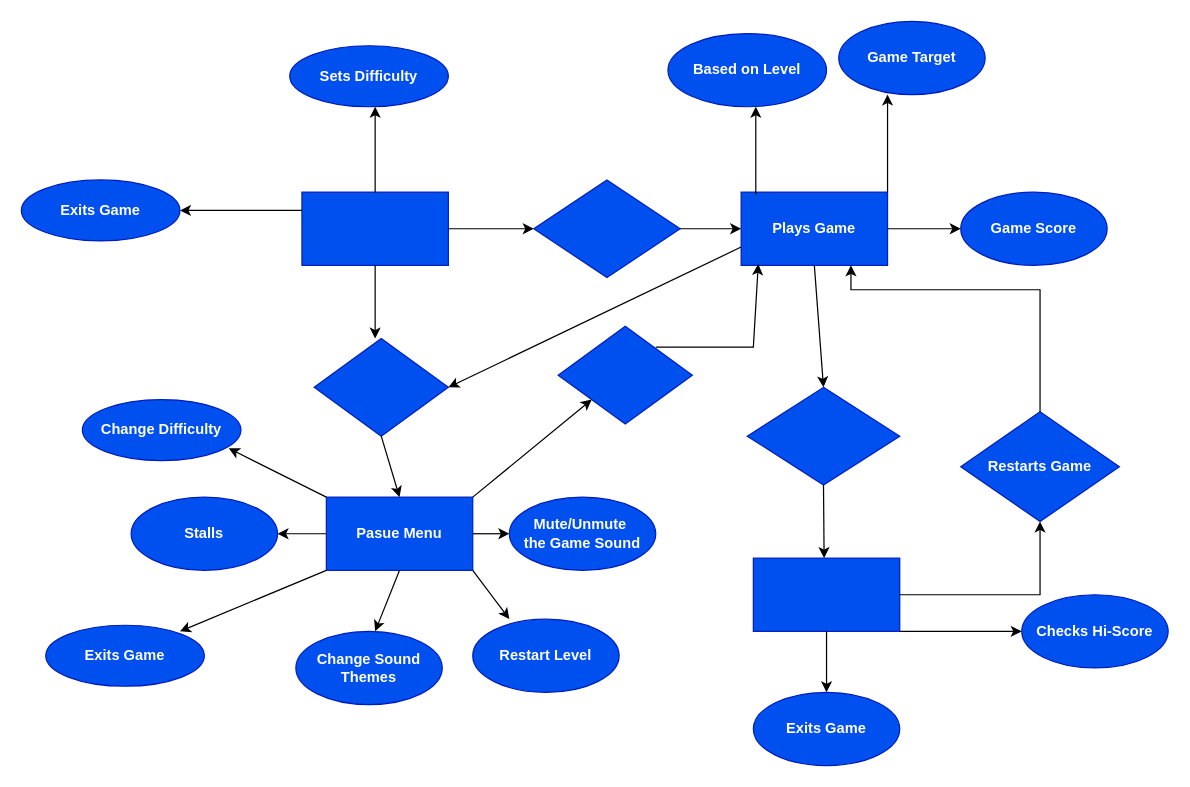
Image size: 1190x787. Some labels were removed from this diagram. The shapes that lost their labels are listed below. From the top down, each one's centre as x and y in pixels, then its label:
At (374,228): "Player".
At (606,228): "Identify by Hand Movements".
At (380,386): "Pause".
At (624,374): "Resume".
At (823,435): "If target doesn't completes".
At (826,594): "Game Over".
